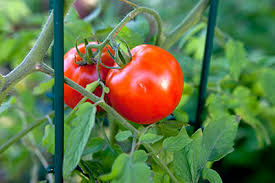stems: (108, 39, 129, 64), (84, 43, 100, 62)
tomato: (107, 44, 186, 124), (63, 41, 116, 112)
